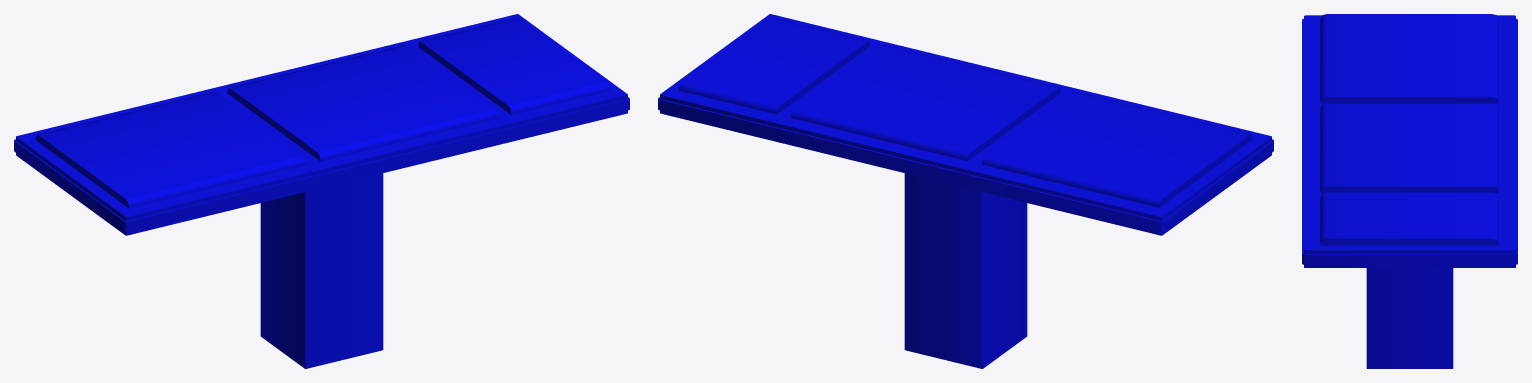
The model's file is AD_Table.FBX.
3 views of the same model, side by side, from view 1: azimuth 30°, elevation 25°; view 2: azimuth 150°, elevation 25°; view 3: azimuth 270°, elevation 25° (orthographic). The views are drawn at different scales.
Visible parts, largest first — view 1: MedTable_Armless; view 2: MedTable_Armless; view 3: MedTable_Armless.
Part boxes in pixels (x1,y1,x2,y2): MedTable_Armless: (14,14,629,368); MedTable_Armless: (658,14,1273,368); MedTable_Armless: (1302,14,1517,368).
Bounding box in the file's own units: 83.67 × 37.1 × 32.3.
